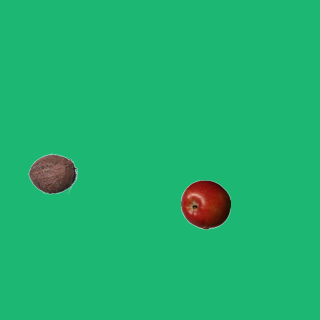Apple Braeburn: (180, 179, 230, 229)
Cocos: (27, 148, 77, 198)
